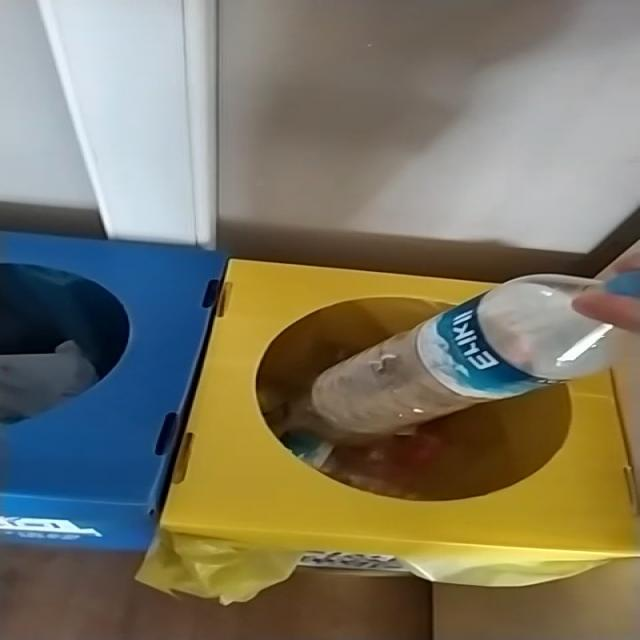plastic: (312, 275, 612, 436)
